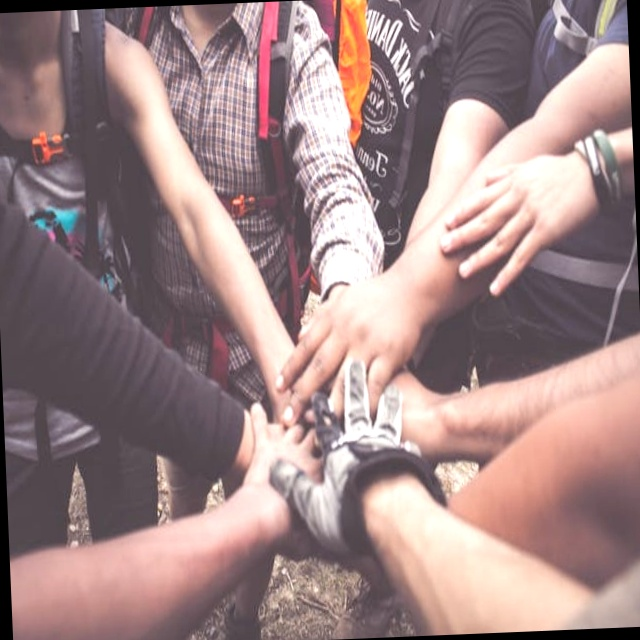foam_scum: (280, 0, 633, 356), (157, 352, 601, 548), (106, 0, 295, 385), (373, 462, 640, 629), (269, 558, 358, 633)
turbid_water: (13, 13, 627, 627)
